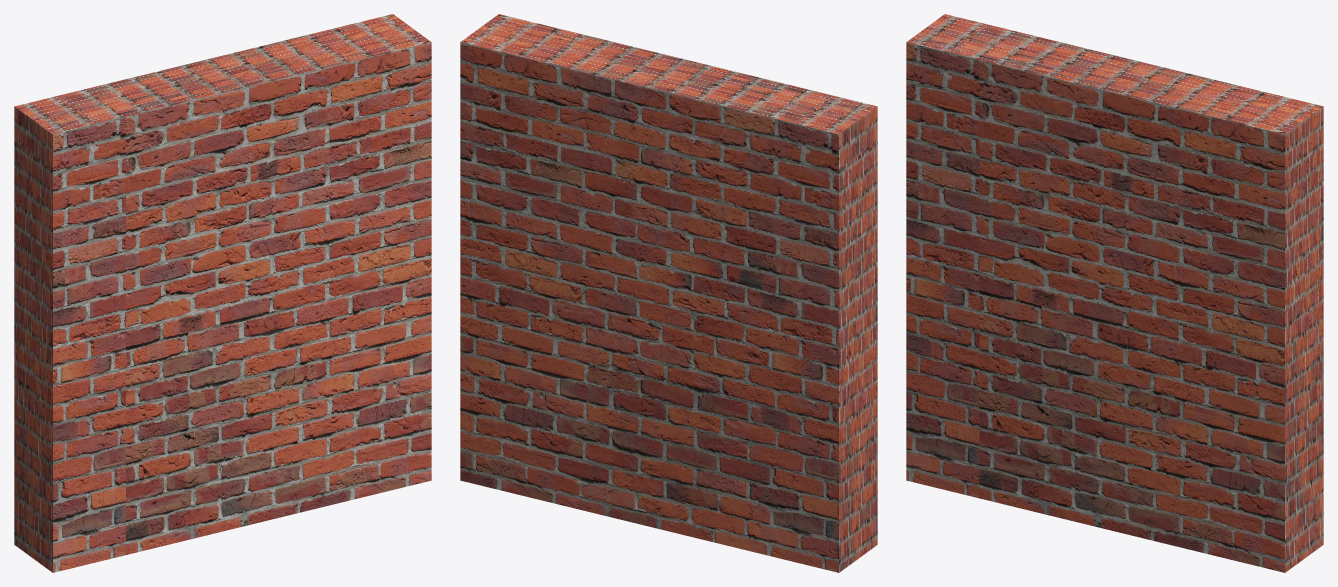
File: w_barrier_wall_material_brick.glb
The picture shows the model from 3 angles, left to right: view 1: azimuth 30°, elevation 25°; view 2: azimuth 150°, elevation 25°; view 3: azimuth 330°, elevation 25°; orthographic projection.
Parts seen in each view (by area): view 1: Cube; view 2: Cube; view 3: Cube.
Boxes of the visible parts, x1,y1,x2,y2 form: Cube: (14,14,431,572); Cube: (460,14,877,572); Cube: (906,14,1323,572).
Size of the model in its own units: 0.9883 by 1.09 by 0.174.
Materials: 1 (1 with a texture image).
